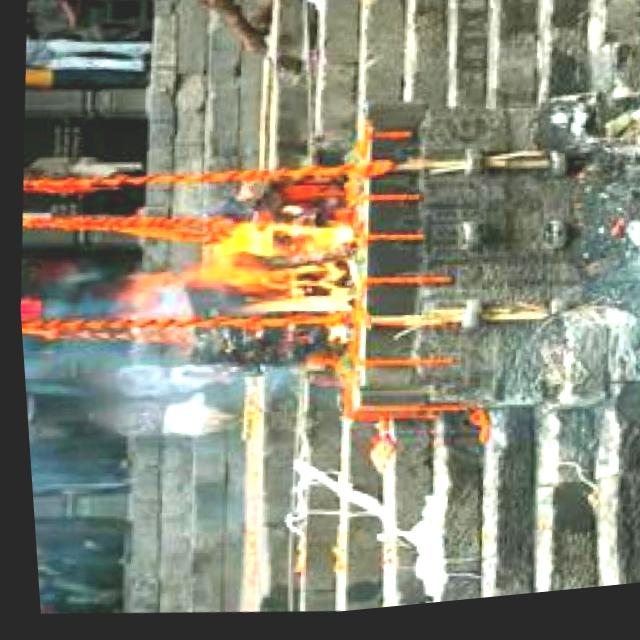Fire: (185, 203, 358, 337)
